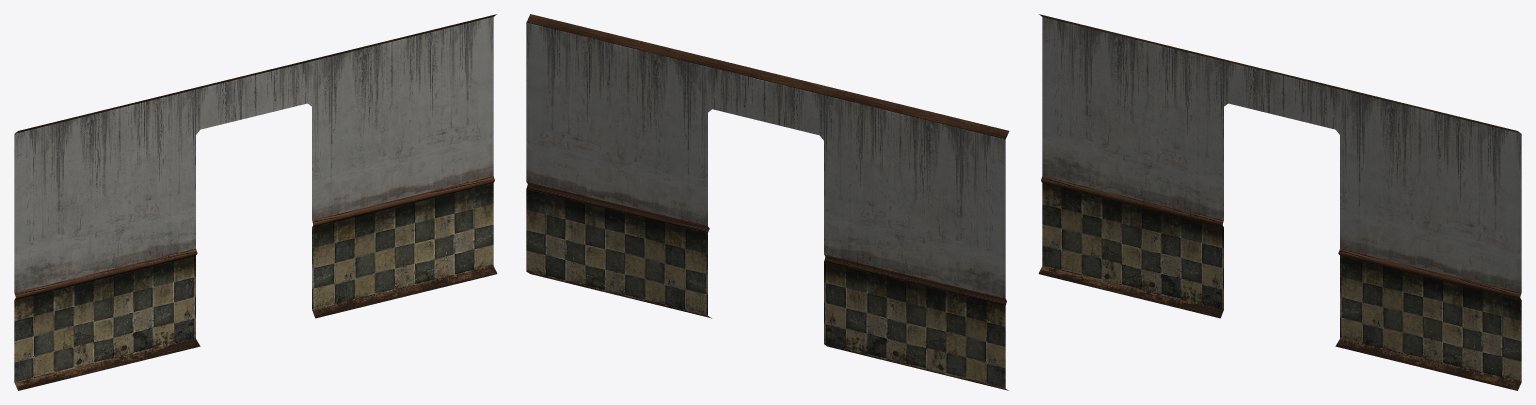
File: WallDoorway.FBX
The picture shows the model from 3 angles, left to right: view 1: azimuth 30°, elevation 25°; view 2: azimuth 150°, elevation 25°; view 3: azimuth 330°, elevation 25°; orthographic projection.
Visible parts, largest first — view 1: Wall002; view 2: Wall002; view 3: Wall002.
Part boxes in pixels (bbox=[...]): Wall002: bbox=[14, 14, 497, 390]; Wall002: bbox=[526, 14, 1009, 390]; Wall002: bbox=[1038, 14, 1521, 390].
Size of the model in its own units: 448 by 233 by 6.37.
